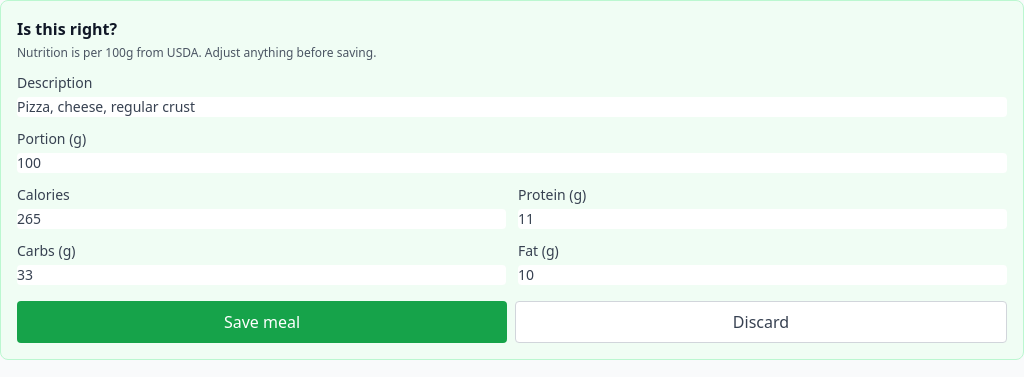
it: MealReview › re-derives from the original basis each time, so edits do not compound rounding error
This screenshot has width=1024, height=377.
Replace the text in the number field labelled "Portion (g)" with "250": (512, 163) [17,153,1007,173]
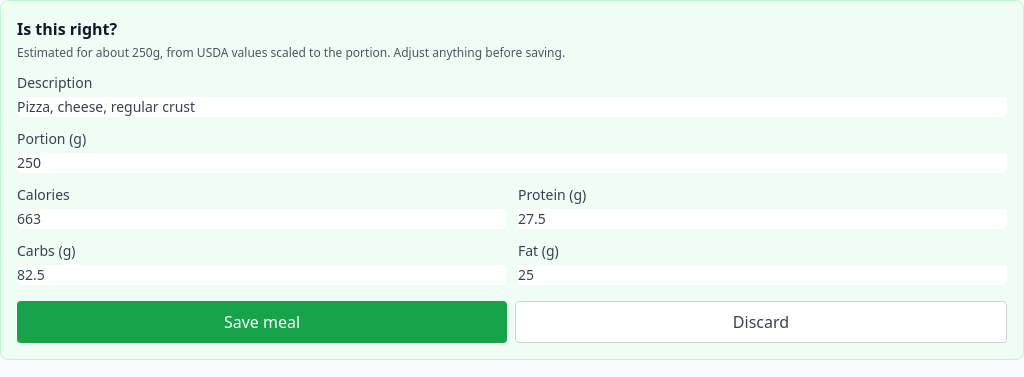
Replace the text in the number field labelled "Portion (g)" with "400": (512, 163) [17,153,1007,173]
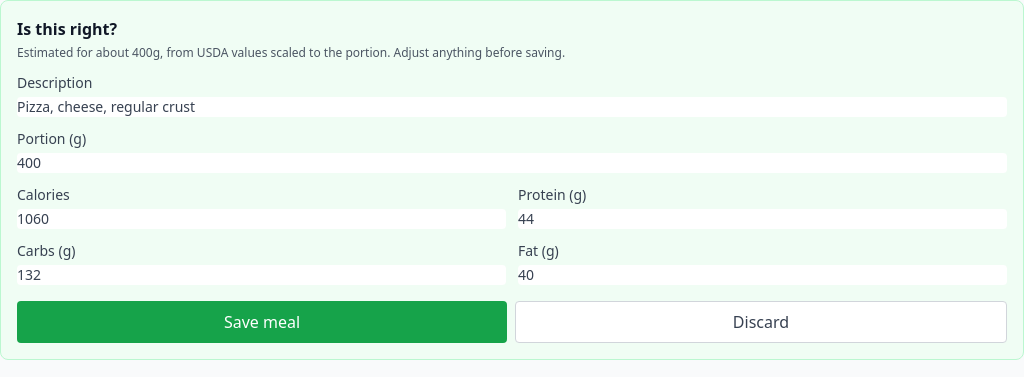
Expected: the number field labelled "Calories" holds "1060", [17,209,506,229]
